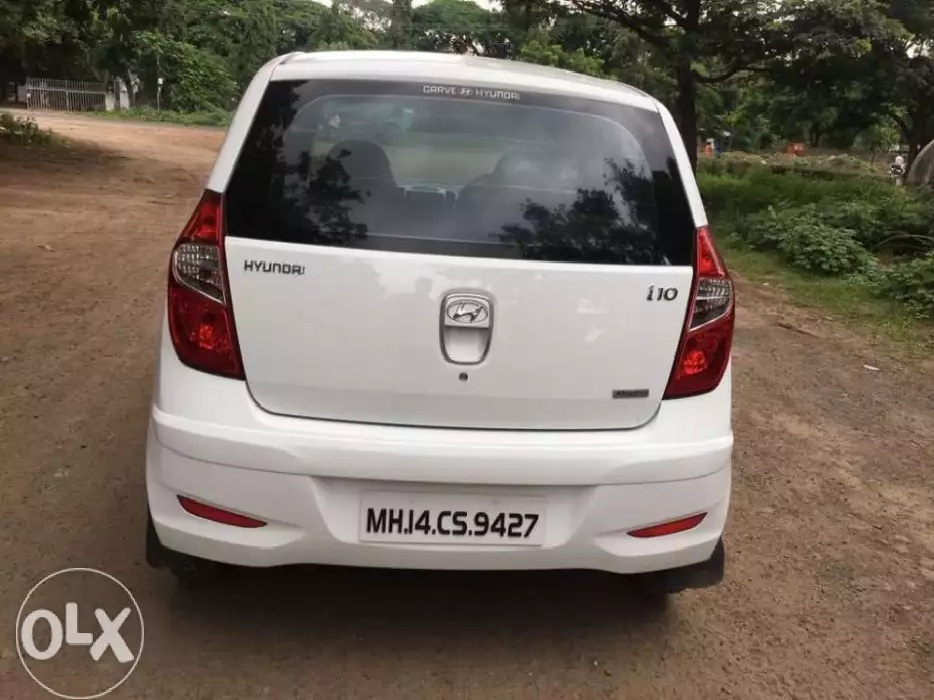licenseplate: (354, 484, 549, 551)
